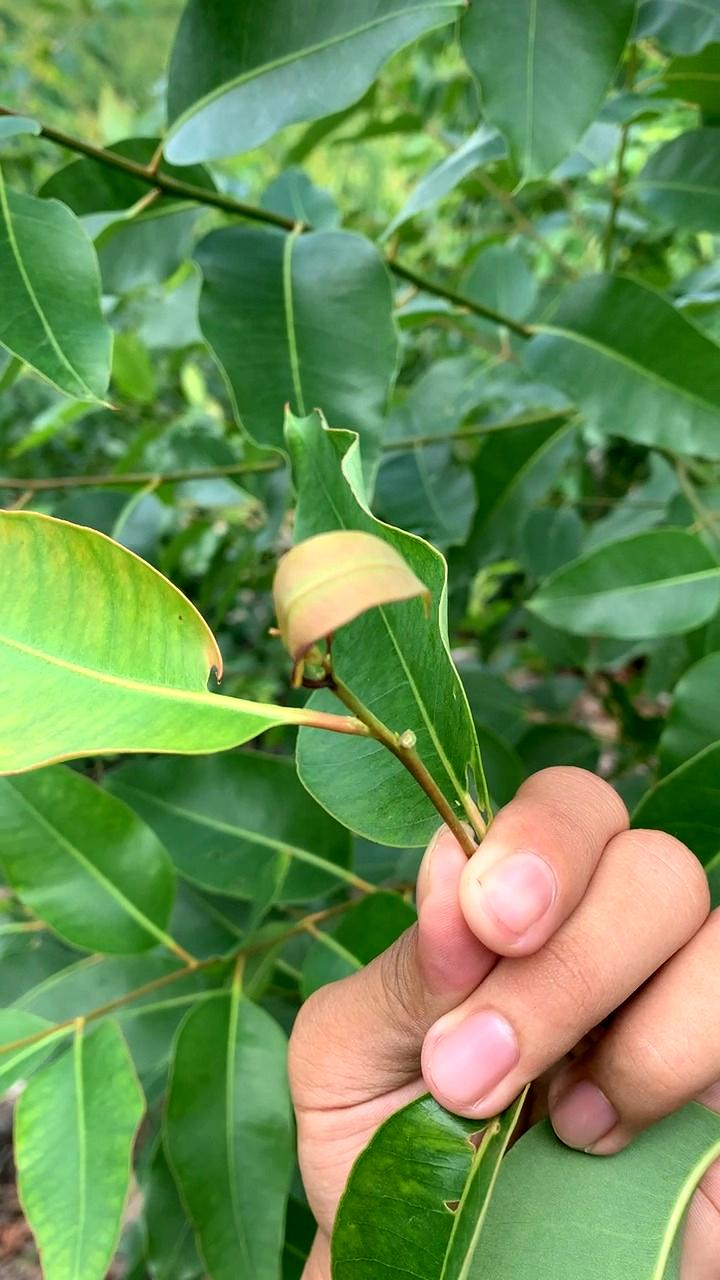Helopeltis-Withered Sprout: (276, 526, 439, 673)
